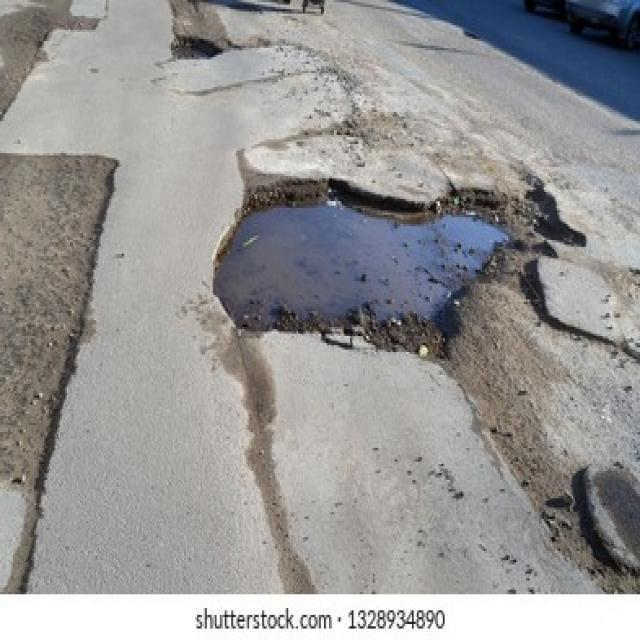pothole: (210, 174, 578, 362), (170, 32, 225, 62)
